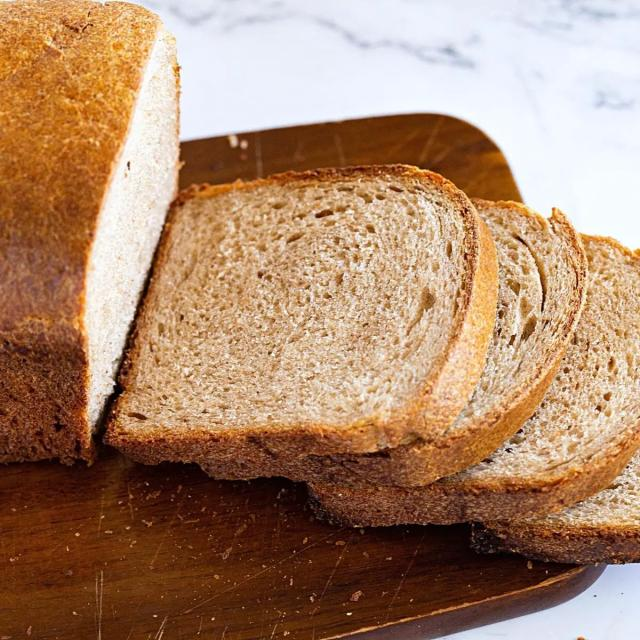Bread: (238, 164, 640, 574), (91, 144, 503, 469), (0, 3, 198, 471)
